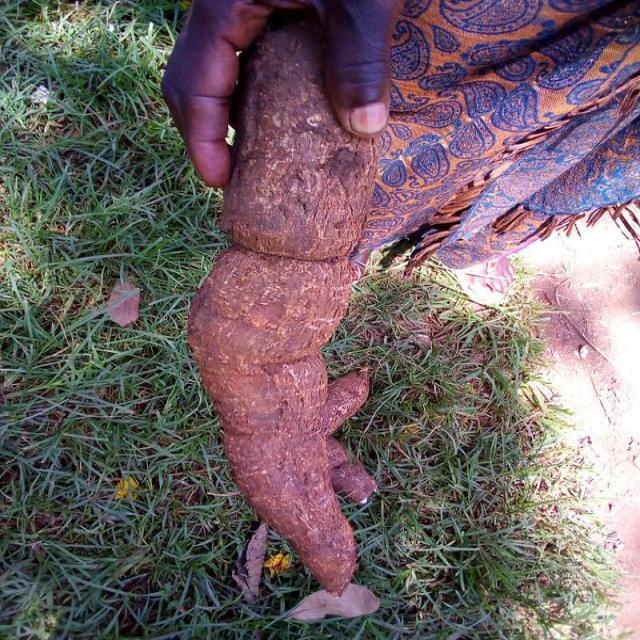cassava leaf: (186, 16, 384, 597)
